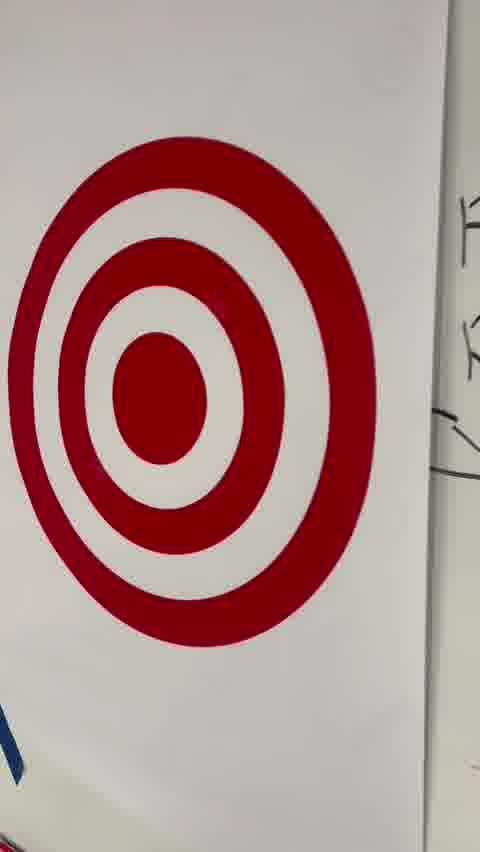target_red: (8, 135, 379, 646)
